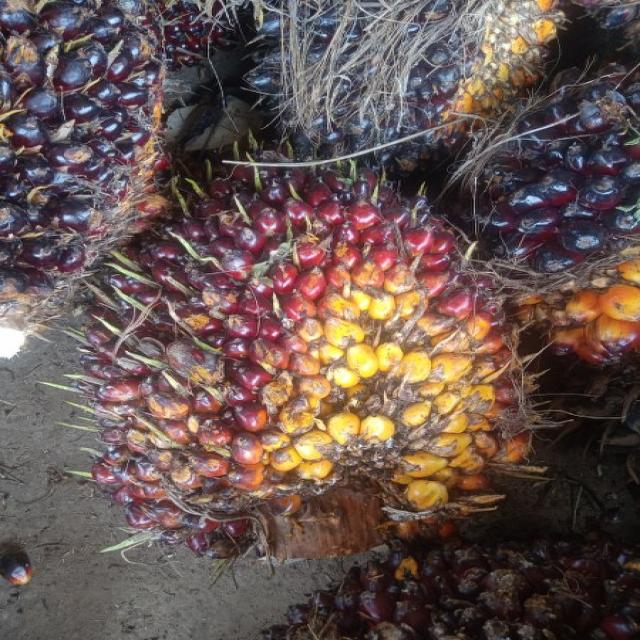fraksi 1: (95, 146, 575, 605)
